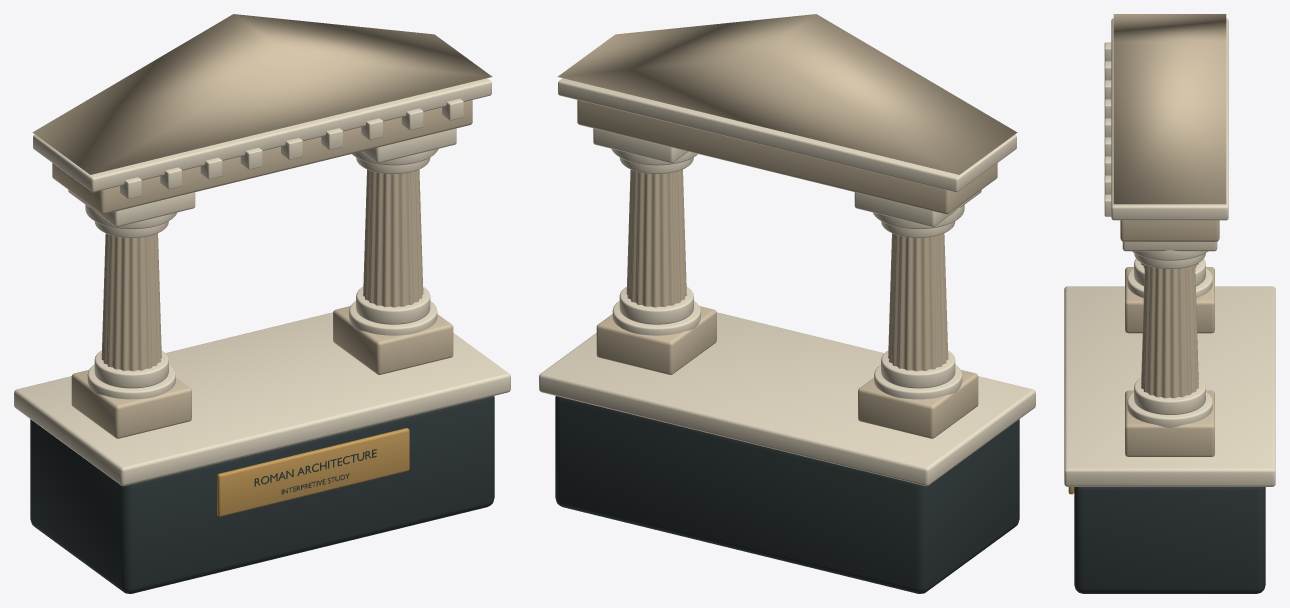
Rendered from RomanStudy.glb.
3 renders of one model, left to right at view 1: azimuth 30°, elevation 25°; view 2: azimuth 150°, elevation 25°; view 3: azimuth 270°, elevation 25°, orthographic. The views are drawn at different scales.
Visible parts, largest first — view 1: Exhibit plinth, Pediment, Exhibit slab, Plaque, Cornice, Fluted shaft, Fluted shaft.001, Entablature, Column square base.001, Column square base, Capital, Column moulding.001 (+5 smaller); view 2: Exhibit plinth, Pediment, Exhibit slab, Entablature, Cornice, Fluted shaft, Fluted shaft.001, Column square base.001, Column square base, Capital, Column moulding.001, Column moulding.005 (+4 smaller); view 3: Exhibit slab, Pediment, Exhibit plinth, Fluted shaft.001, Column square base.001, Cornice, Entablature, Column square base, Column moulding.005, Column moulding.004, Capital.001, Column moulding.006 (+3 smaller).
Boxes of the visible parts, bbox=[...] form: Exhibit plinth: bbox=[30, 396, 494, 593]; Pediment: bbox=[32, 14, 492, 174]; Exhibit slab: bbox=[14, 312, 510, 486]; Plaque: bbox=[217, 428, 409, 516]; Cornice: bbox=[33, 78, 491, 192]; Fluted shaft: bbox=[101, 233, 161, 371]; Fluted shaft.001: bbox=[363, 169, 423, 307]; Entablature: bbox=[52, 100, 472, 214]; Column square base.001: bbox=[333, 306, 453, 374]; Column square base: bbox=[71, 370, 191, 438]; Capital: bbox=[68, 190, 195, 226]; Column moulding.001: bbox=[94, 350, 168, 388]; Exhibit plinth: bbox=[555, 396, 1019, 593]; Pediment: bbox=[557, 14, 1017, 174]; Exhibit slab: bbox=[539, 312, 1035, 486]; Entablature: bbox=[577, 100, 997, 214]; Cornice: bbox=[558, 78, 1016, 192]; Fluted shaft: bbox=[888, 233, 948, 371]; Fluted shaft.001: bbox=[626, 169, 686, 307]; Column square base.001: bbox=[596, 306, 716, 374]; Column square base: bbox=[858, 370, 978, 438]; Capital: bbox=[854, 190, 981, 226]; Column moulding.001: bbox=[881, 350, 955, 388]; Column moulding.005: bbox=[619, 286, 693, 324]; Exhibit slab: bbox=[1064, 286, 1275, 486]; Pediment: bbox=[1113, 14, 1226, 204]; Exhibit plinth: bbox=[1074, 487, 1265, 593]; Fluted shaft.001: bbox=[1141, 265, 1198, 398]; Column square base.001: bbox=[1125, 390, 1214, 456]; Cornice: bbox=[1111, 18, 1228, 220]; Entablature: bbox=[1120, 220, 1219, 241]; Column square base: bbox=[1125, 267, 1214, 333]; Column moulding.005: bbox=[1134, 378, 1205, 414]; Column moulding.004: bbox=[1127, 392, 1212, 427]; Capital.001: bbox=[1122, 241, 1217, 251]; Column moulding.006: bbox=[1134, 253, 1205, 269].
Size of the model in its own units: 2 by 2.29 by 0.94.
